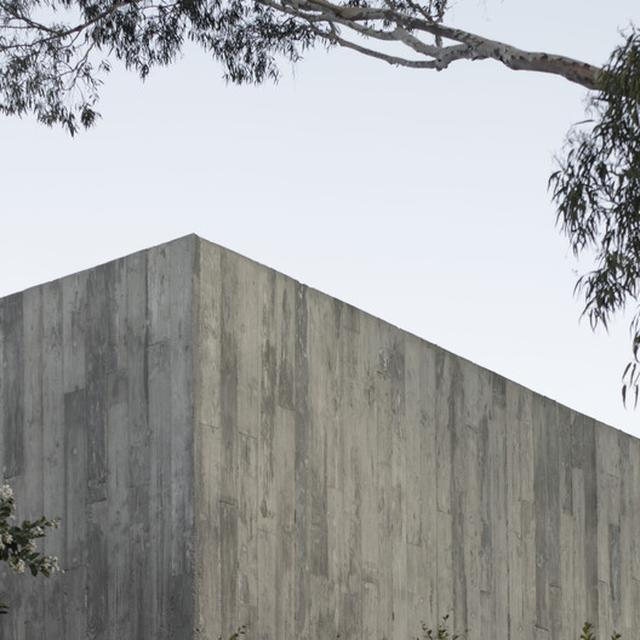building: (0, 231, 640, 640)
